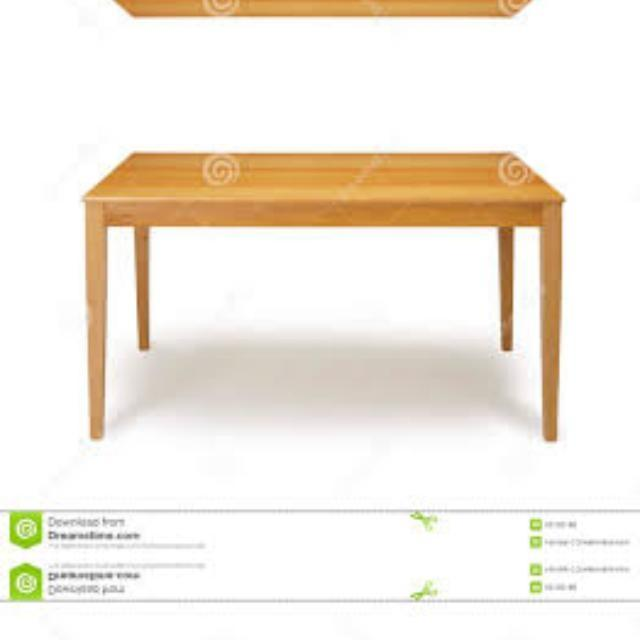obstacle: (52, 120, 580, 454), (51, 0, 580, 48)
